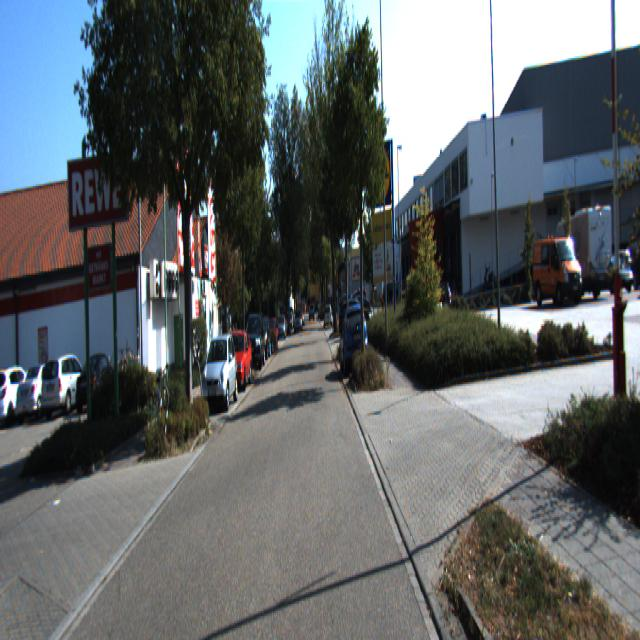Car: (532, 227, 585, 307), (40, 354, 96, 424), (16, 360, 68, 425), (201, 333, 237, 415), (0, 360, 43, 425), (339, 304, 368, 375), (222, 328, 252, 392), (244, 313, 266, 373), (253, 312, 272, 360)
